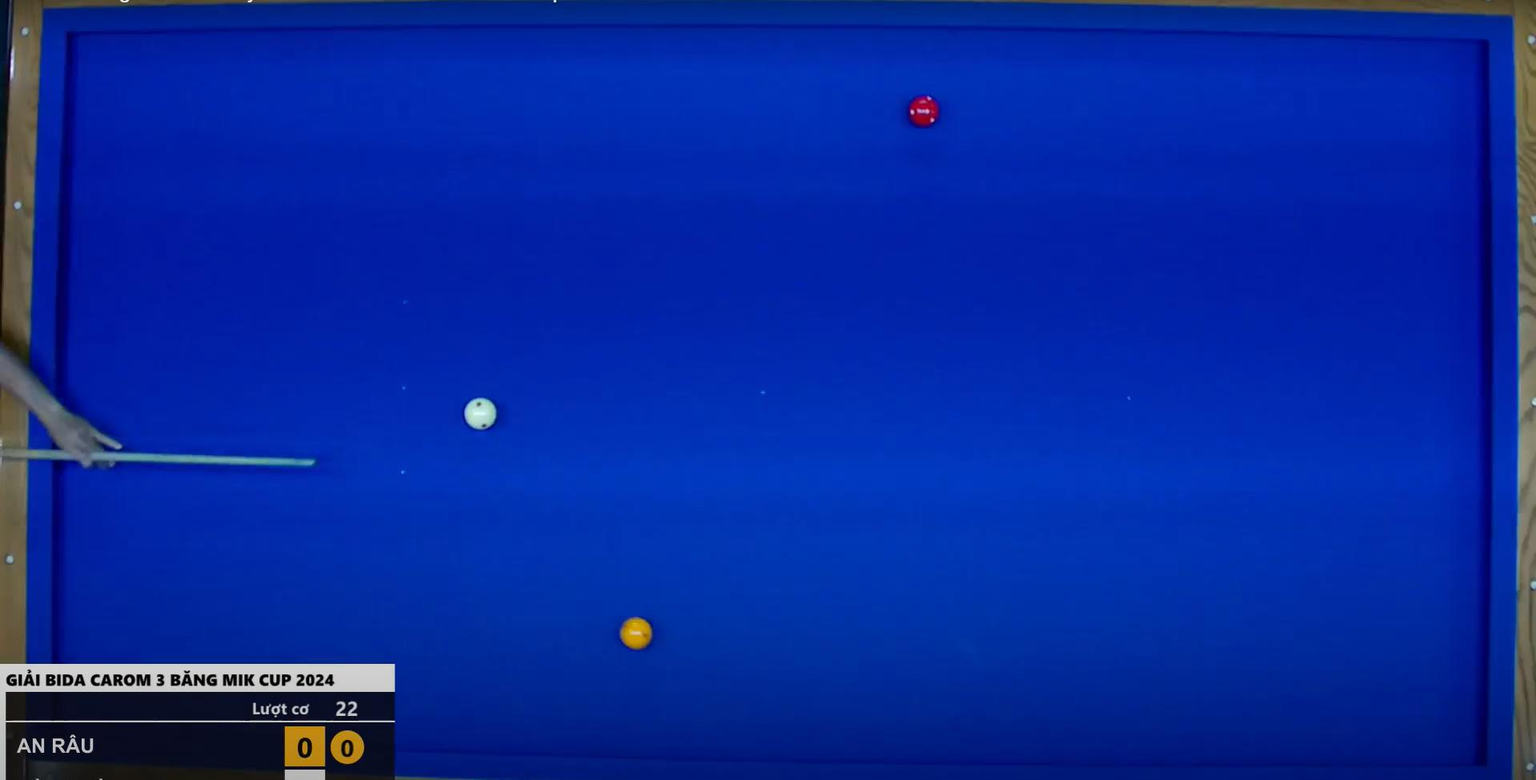red ball: (901, 91, 948, 137)
white ball: (457, 393, 498, 438)
yellow ball: (612, 608, 658, 659)
